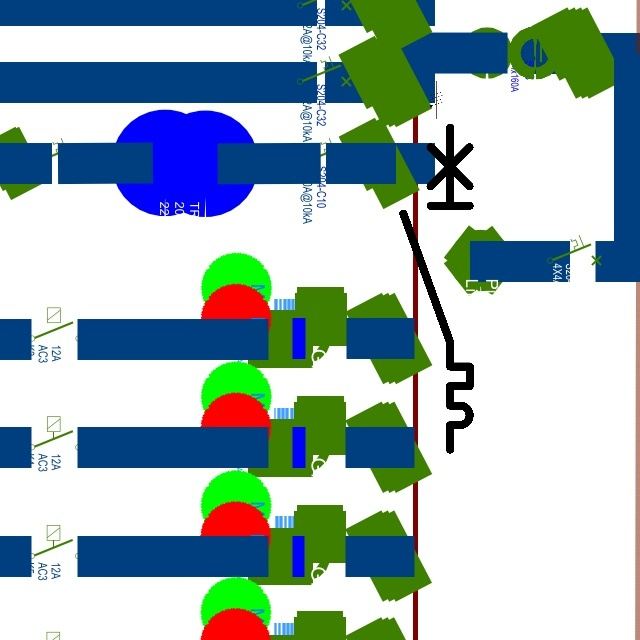interruptor_termomagnetico: (395, 119, 478, 458)
